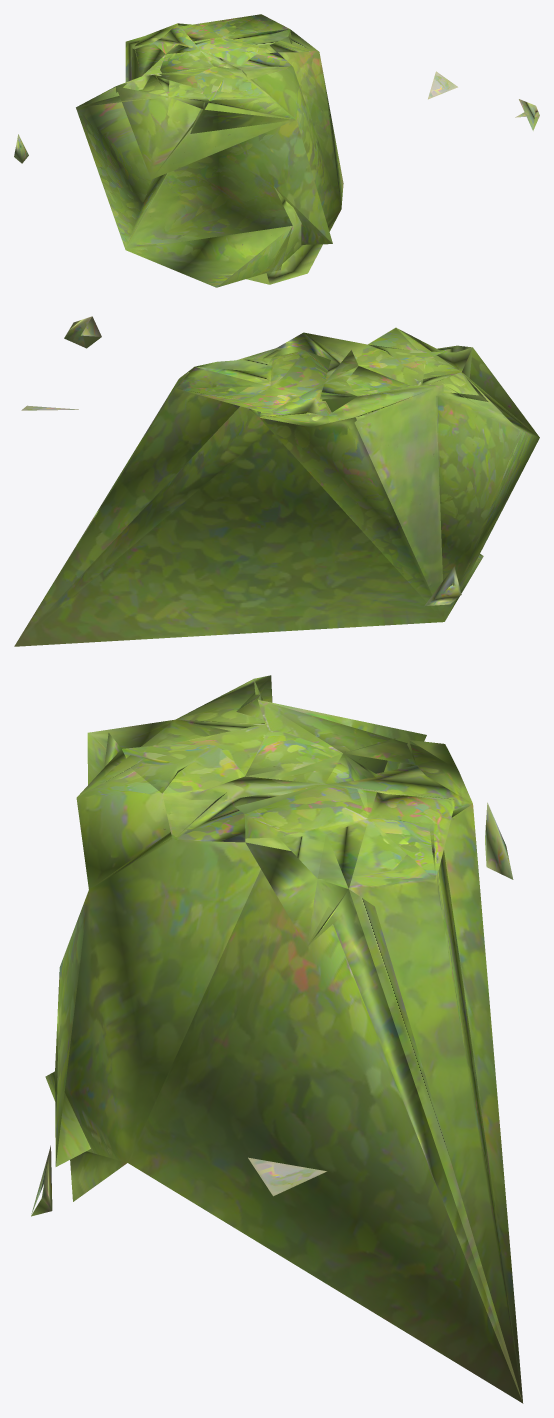
Rendered from hydrangeas.glb.
The picture shows the model from 3 angles, top to bottom: view 1: azimuth 30°, elevation 25°; view 2: azimuth 150°, elevation 25°; view 3: azimuth 270°, elevation 25°; orthographic projection. The views are drawn at different scales.
Visible parts, largest first — view 1: tripo_node_e769ed11-3ace-45d4-bd83-441f0cf80fbb; view 2: tripo_node_e769ed11-3ace-45d4-bd83-441f0cf80fbb; view 3: tripo_node_e769ed11-3ace-45d4-bd83-441f0cf80fbb.
Part boxes in pixels (x1,y1,x2,y2): tripo_node_e769ed11-3ace-45d4-bd83-441f0cf80fbb: (14,14,539,287); tripo_node_e769ed11-3ace-45d4-bd83-441f0cf80fbb: (14,316,539,646); tripo_node_e769ed11-3ace-45d4-bd83-441f0cf80fbb: (31,675,523,1403).
Size of the model in its own units: 1 by 0.5054 by 0.5103.
Materials: 1 (1 with a texture image).
